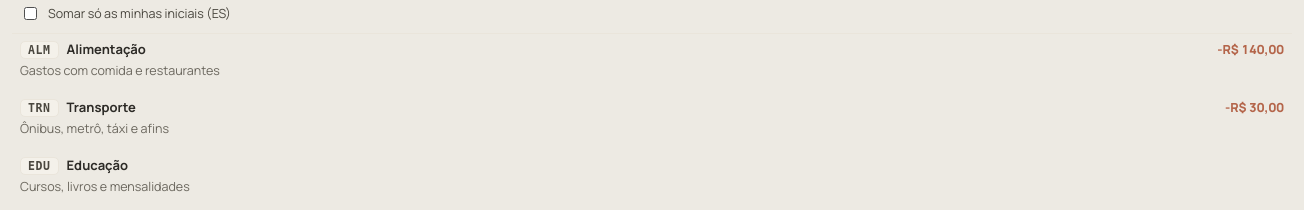
Scenario: PainelNaturezas — switch de iniciais na UI (item 41) › TLSN-10: ligado, soma só os lançamentos das iniciais da sessão
Click the switch at (30, 14), box [24, 7, 37, 20]
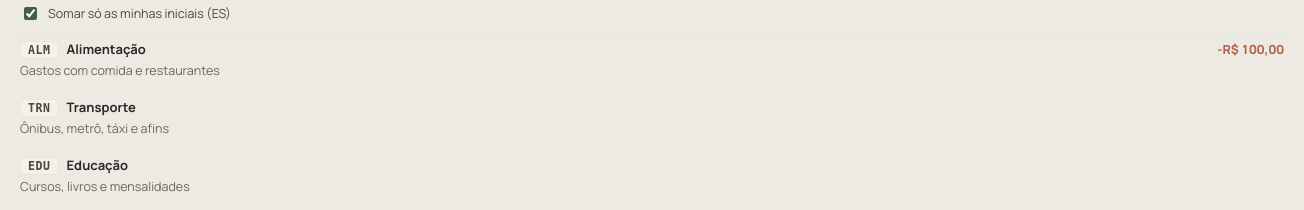
expect the text "-R$ 100,00" is shown: met, box [1217, 41, 1284, 58]
expect the button "-R$ 140,00" is gone: met
